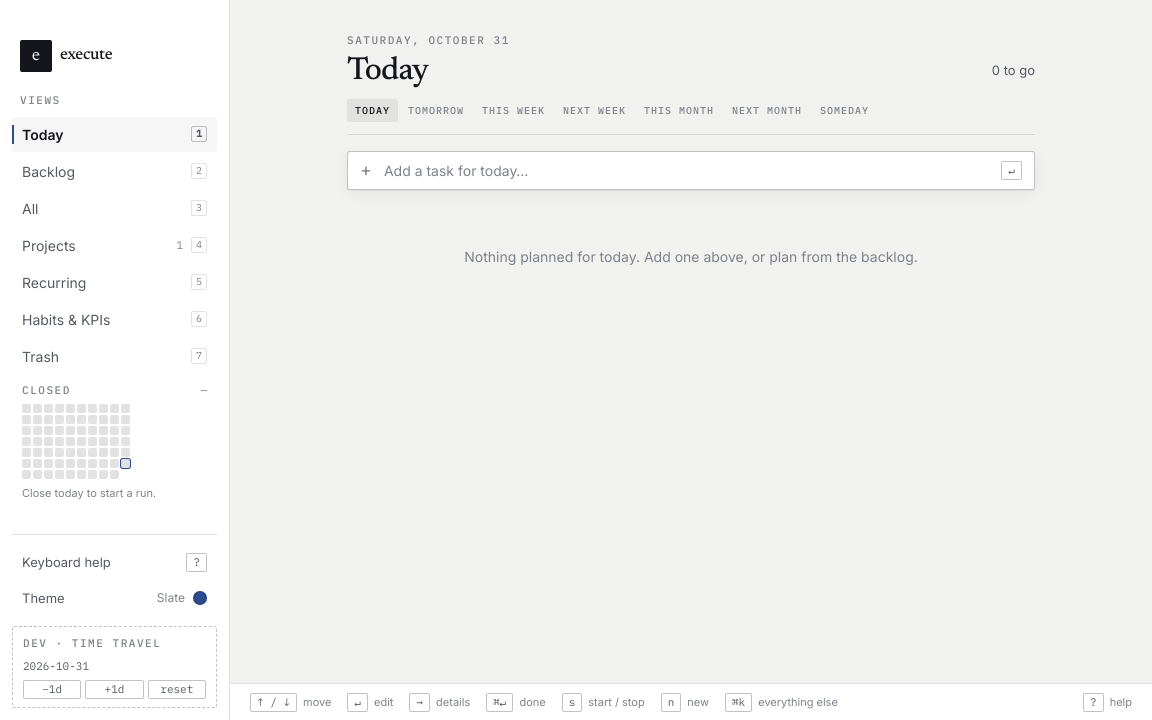
it: The weekly look-back › says so plainly when there's nothing to look back on yet
Check: the field with placeholder "Add a task for today…" is shown, box [384, 160, 989, 180]
Click the button titled "Weekly look-back" at (114, 440), box [12, 374, 217, 506]
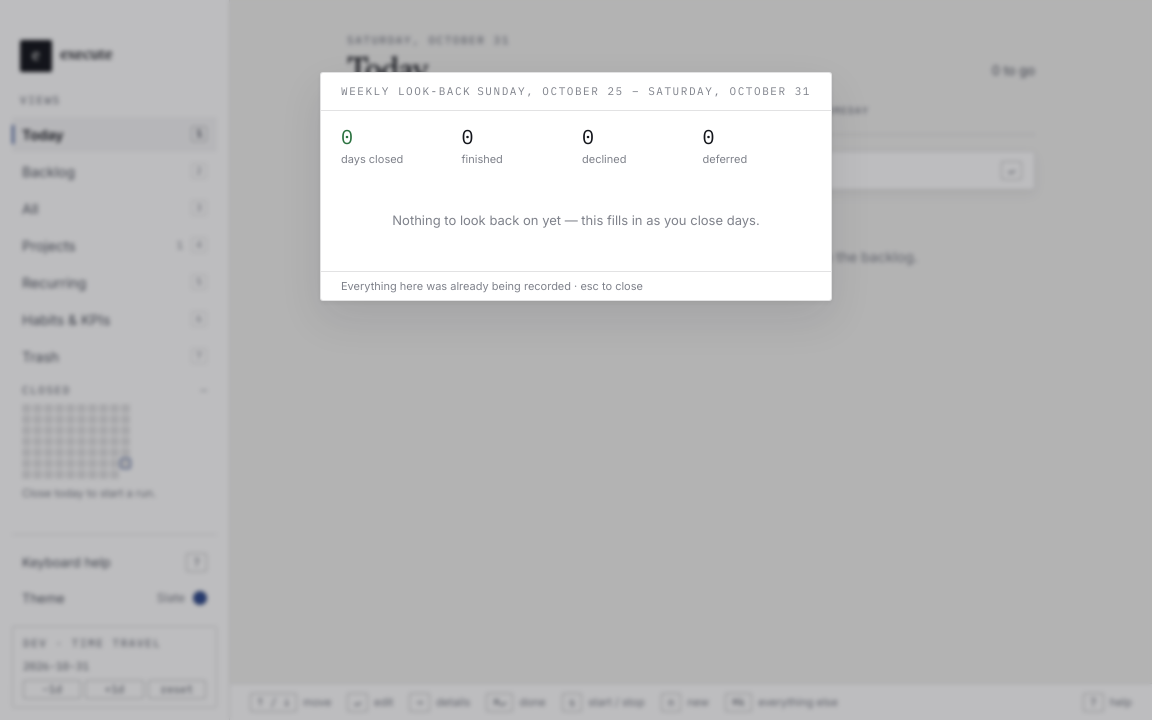
Check: the text "Nothing to look back on yet" is shown, box [392, 212, 760, 228]
